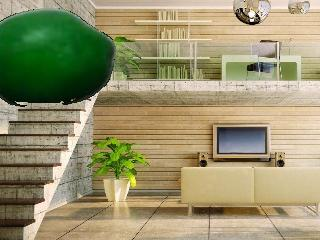lime: (0, 9, 116, 105)
